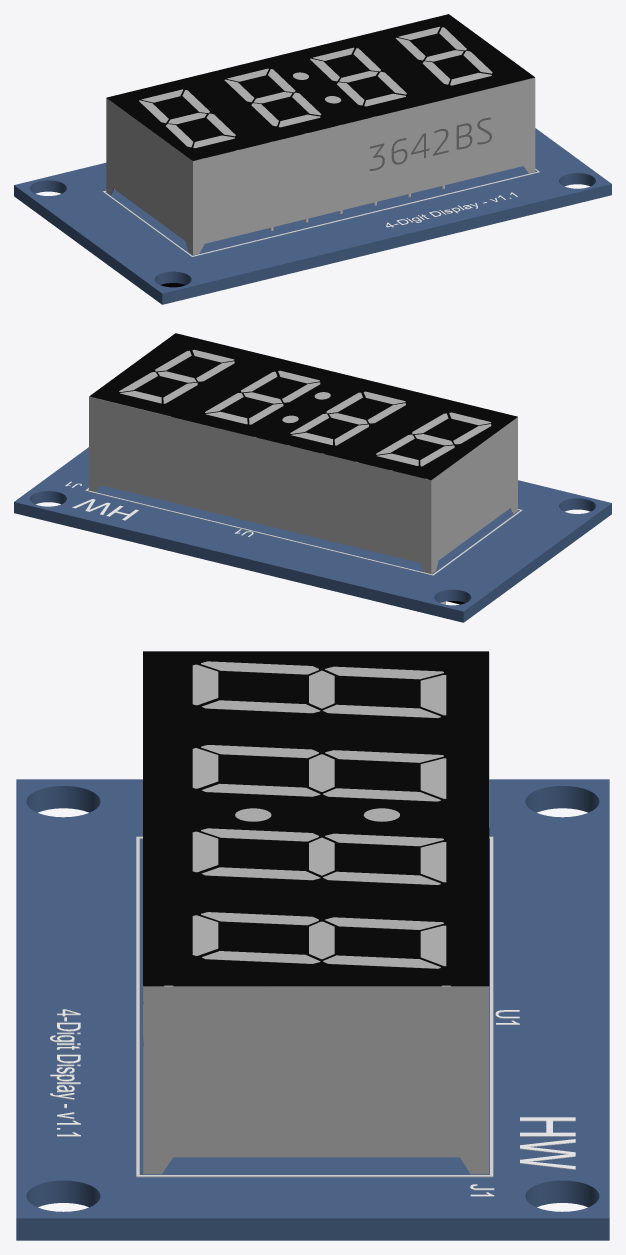
File: modulo_display_7_segmentos_4_digitos.glb
3 renders of one model, top to bottom at view 1: azimuth 30°, elevation 25°; view 2: azimuth 150°, elevation 25°; view 3: azimuth 270°, elevation 25°, orthographic. The views are drawn at different scales.
Visible parts, largest first — view 1: Protoboard_003-material, azul_placa-material, PlasticoPreto_005-material, chip_marron_001-material, letras_001-material, letras-material; view 2: Protoboard_003-material, azul_placa-material, PlasticoPreto_005-material, letras_001-material, letras-material; view 3: azul_placa-material, PlasticoPreto_005-material, Protoboard_003-material, letras_001-material, letras-material.
Boxes of the visible parts, box(x1,y1,x2,y2) form: Protoboard_003-material: box(106, 26, 535, 254); azul_placa-material: box(14, 128, 611, 304); PlasticoPreto_005-material: box(106, 14, 534, 192); chip_marron_001-material: box(369, 117, 491, 170); letras_001-material: box(102, 169, 539, 256); letras-material: box(386, 192, 517, 227); Protoboard_003-material: box(89, 349, 517, 573); azul_placa-material: box(14, 447, 611, 622); PlasticoPreto_005-material: box(89, 333, 517, 512); letras_001-material: box(85, 488, 522, 575); letras-material: box(65, 481, 253, 537); azul_placa-material: box(16, 779, 609, 1240); PlasticoPreto_005-material: box(143, 651, 489, 986); Protoboard_003-material: box(143, 652, 489, 1174); letras_001-material: box(136, 836, 493, 1177); letras-material: box(50, 1009, 575, 1196).
Size of the model in its own units: 0.042 by 0.0115 by 0.024.
